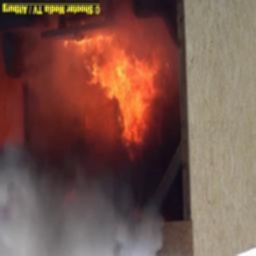fire: (68, 33, 164, 152)
